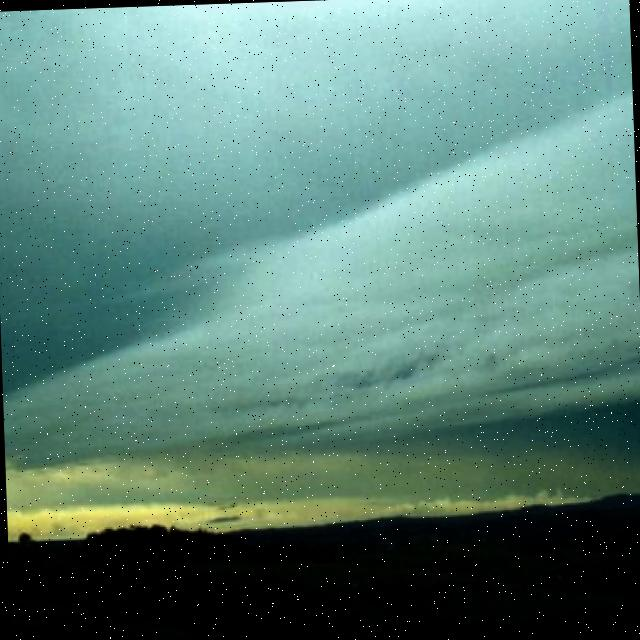St: (1, 79, 640, 493)
